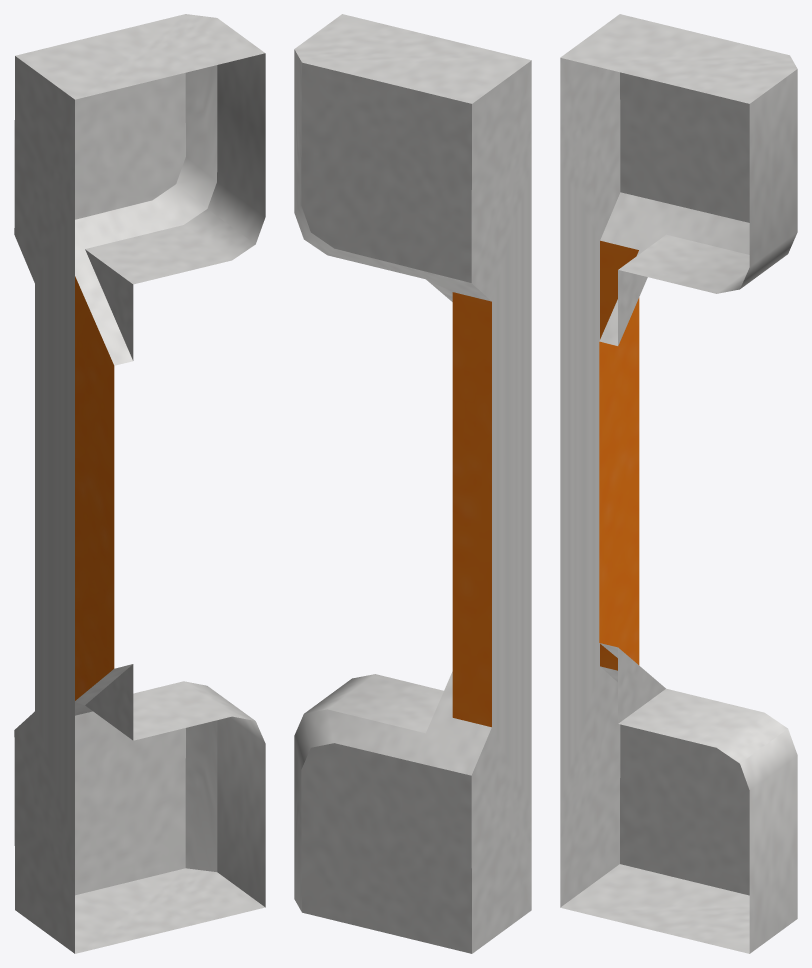
The model's file is WallDec_1_Half_R_LOD0.fbx.
The picture shows the model from 3 angles, left to right: view 1: azimuth 30°, elevation 25°; view 2: azimuth 150°, elevation 25°; view 3: azimuth 330°, elevation 25°; orthographic projection.
Visible parts, largest first — view 1: WallDec_1_Half_R_LOD0; view 2: WallDec_1_Half_R_LOD0; view 3: WallDec_1_Half_R_LOD0.
Part boxes in pixels (x1,y1,x2,y2): WallDec_1_Half_R_LOD0: (14, 14, 265, 953); WallDec_1_Half_R_LOD0: (294, 14, 531, 953); WallDec_1_Half_R_LOD0: (560, 14, 797, 953).
Size of the model in its own units: 23.33 by 100 by 12.86.
